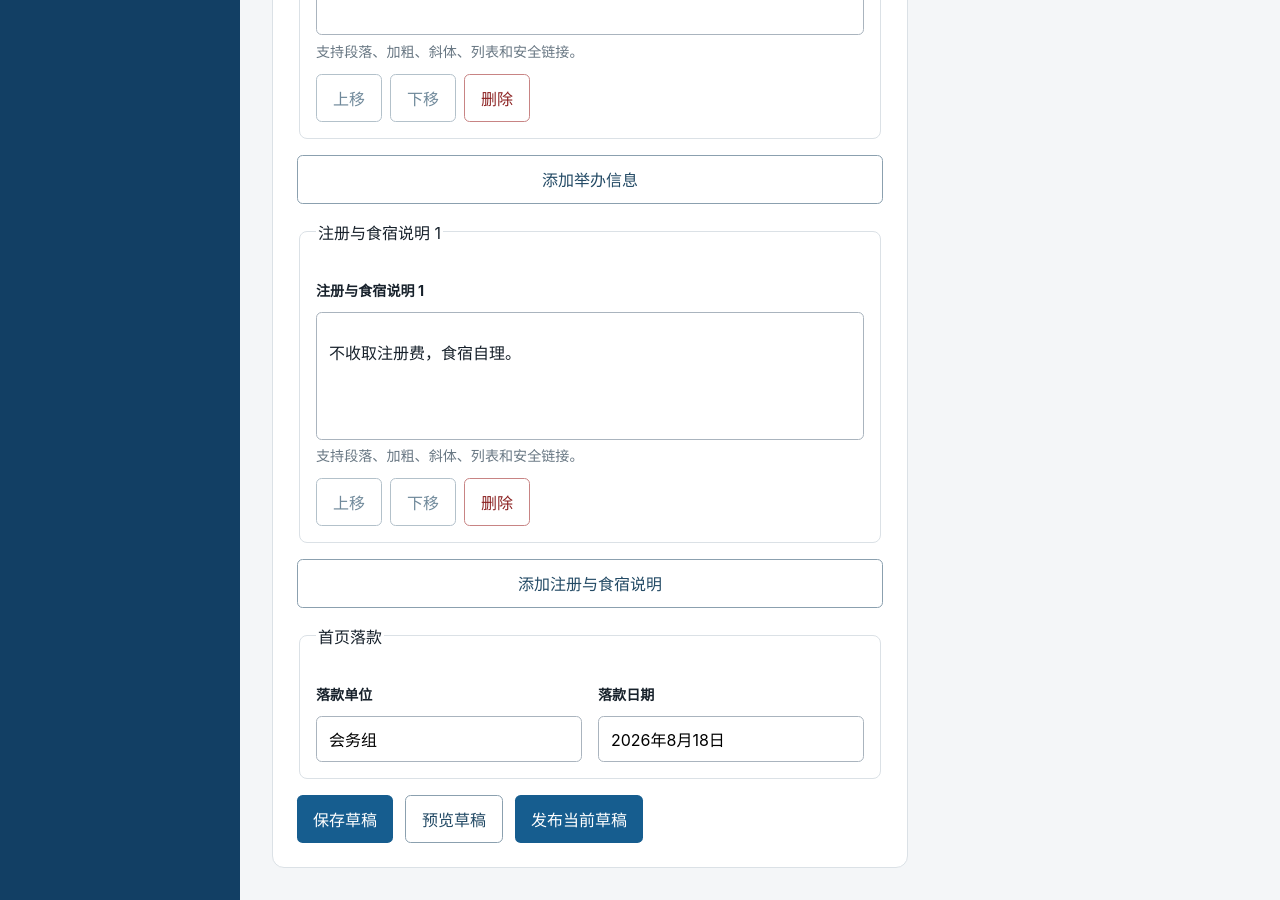
Test: content workbench › shows an explicit revision conflict and prevents duplicate saves
(page scrolled)
Click the button "保存草稿": x=345, y=819 [297,795,393,843]
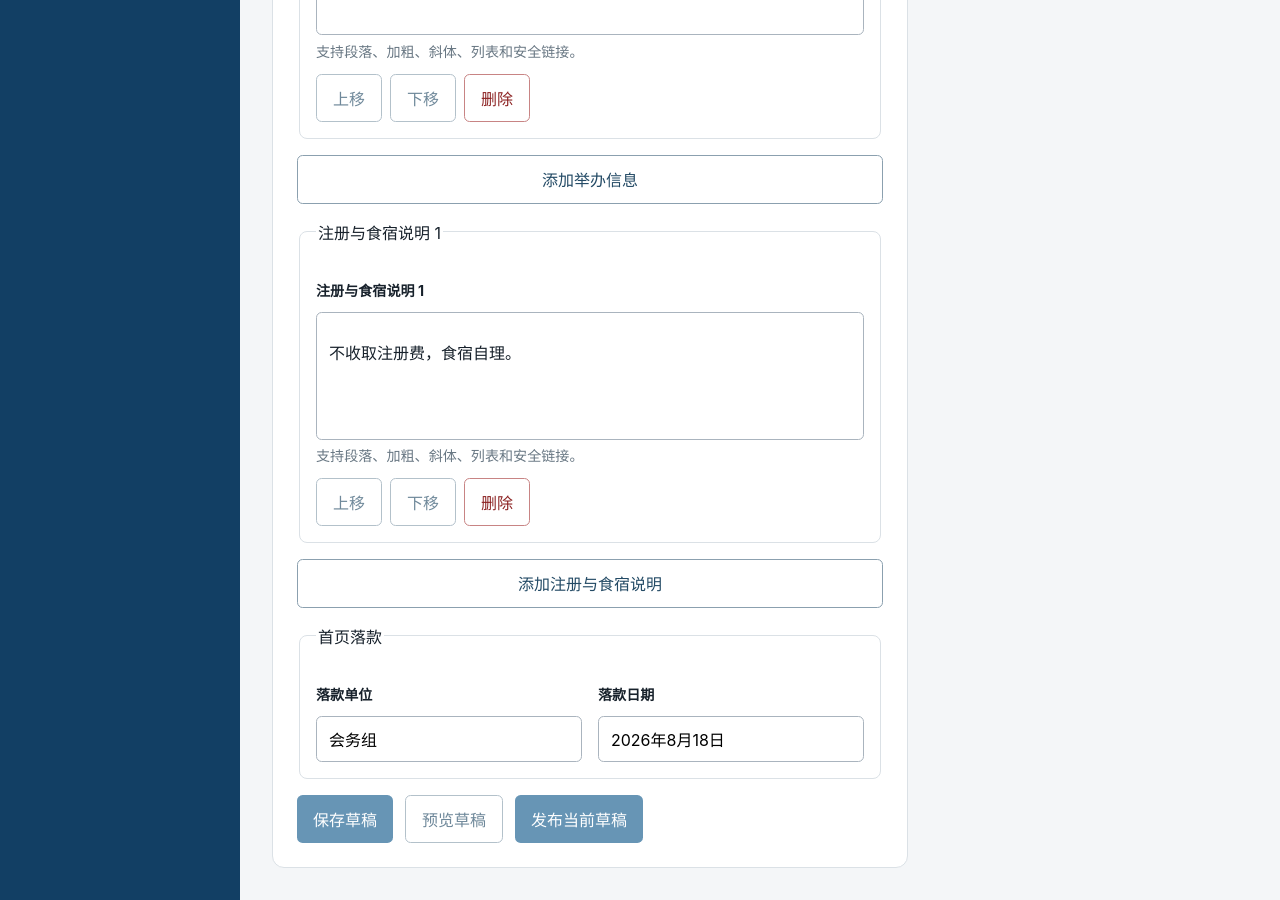
Expected: the button "保存草稿" is disabled
Click the button "保存草稿": x=345, y=819 [297,795,393,843]
(page scrolled)
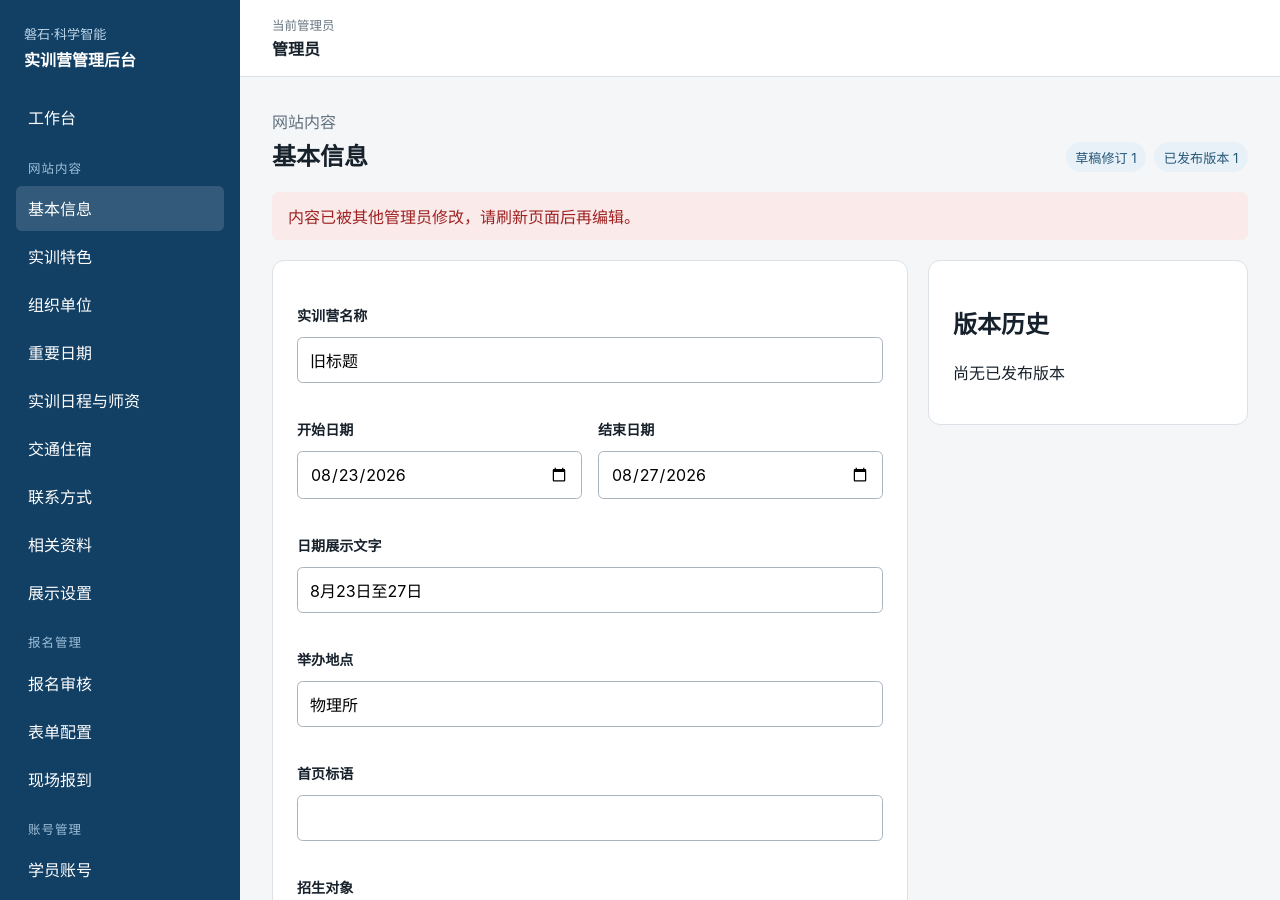
Expected: the message shows "其他管理员修改", [288,207,640,227]
